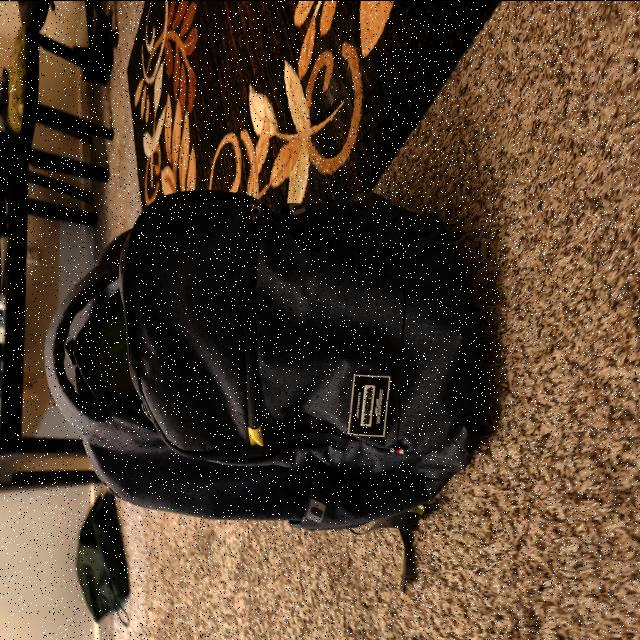bag: (45, 198, 483, 512)
